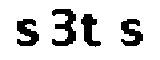3: (50, 6, 78, 49)
s: (115, 18, 147, 49), (11, 18, 41, 49)
t: (79, 11, 105, 50)
